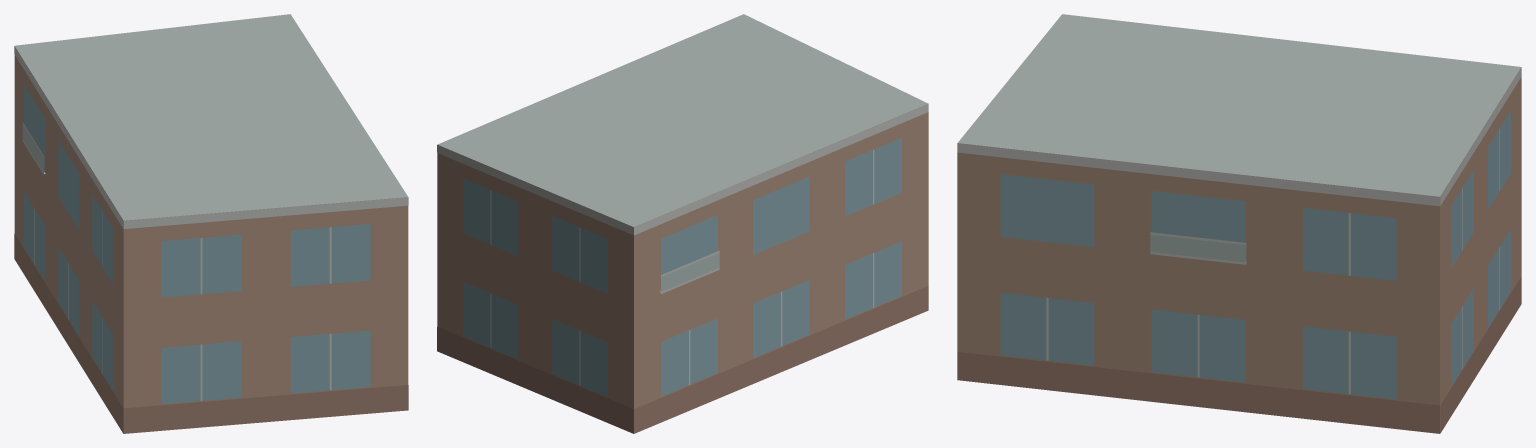
Rendered from survey-upis-32887245.glb.
3 views of the same model, side by side, from view 1: azimuth 30°, elevation 25°; view 2: azimuth 150°, elevation 25°; view 3: azimuth 270°, elevation 25° (orthographic). The views are drawn at different scales.
Visible parts, largest first — view 1: survey-upis-32887245.tmp; view 2: survey-upis-32887245.tmp; view 3: survey-upis-32887245.tmp.
Part boxes in pixels (x1,y1,x2,y2): survey-upis-32887245.tmp: (14, 14, 408, 433); survey-upis-32887245.tmp: (437, 14, 928, 433); survey-upis-32887245.tmp: (957, 14, 1521, 433).
Bounding box in the file's own units: 10.1 × 6.1 × 13.17.
